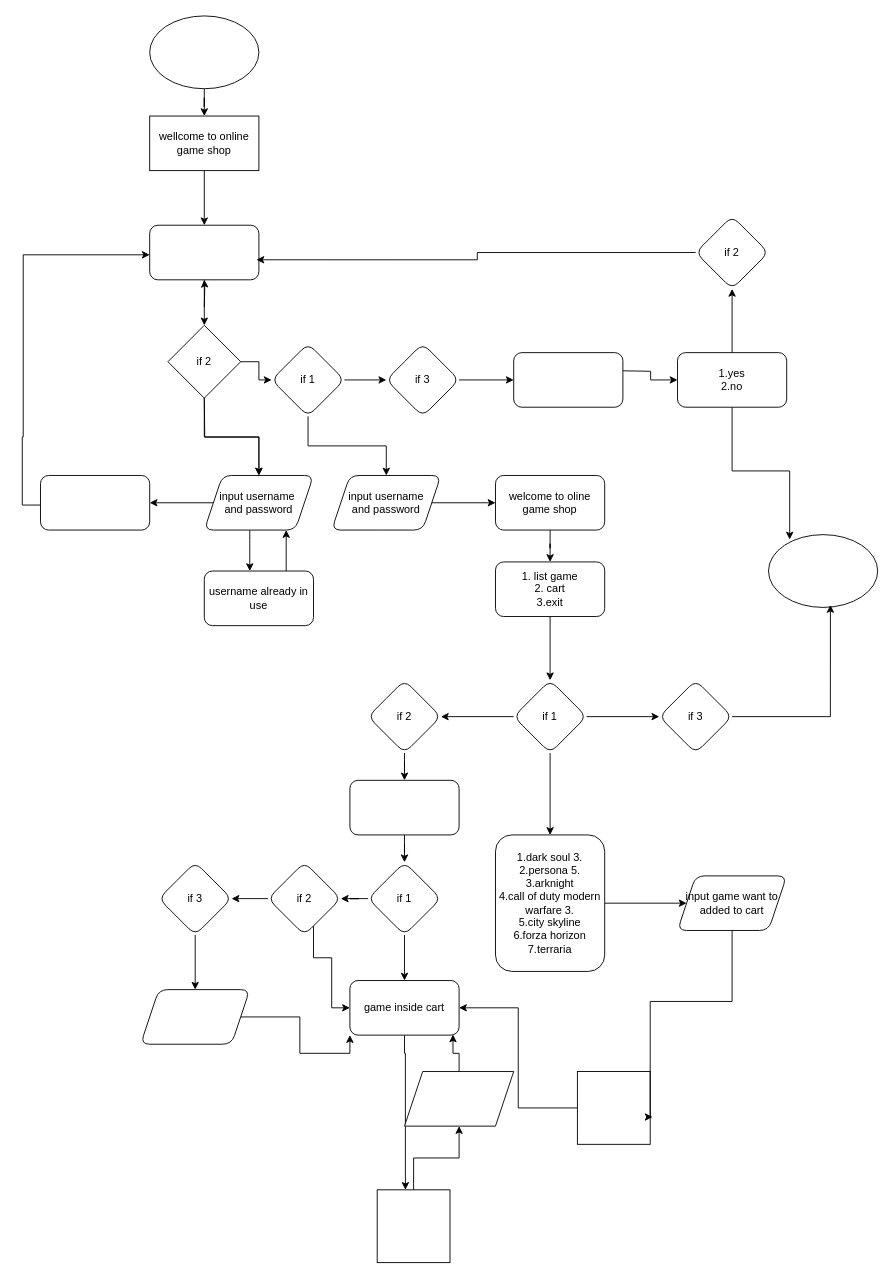
The diagram is 894 pixels wide and 1279 high, and some of its shapes have lost their labels. The box of each missing label's shape, as (x1, y1, x2, y2) in pixels:
1. login 2. register 3. exit: (149, 224, 259, 280)
added game to cart: (576, 1071, 650, 1144)
are you sure want to exit: (513, 352, 623, 407)
cart 1.inside cart 2.change cart 3.delete game in cart: (349, 779, 459, 835)
change game: (376, 1189, 450, 1263)
input game want to change to new game: (404, 1071, 514, 1126)
input game want to delete: (140, 989, 250, 1044)
Mulai: (149, 15, 259, 89)
selesai: (768, 534, 878, 607)
username and password has been save: (40, 475, 150, 530)
